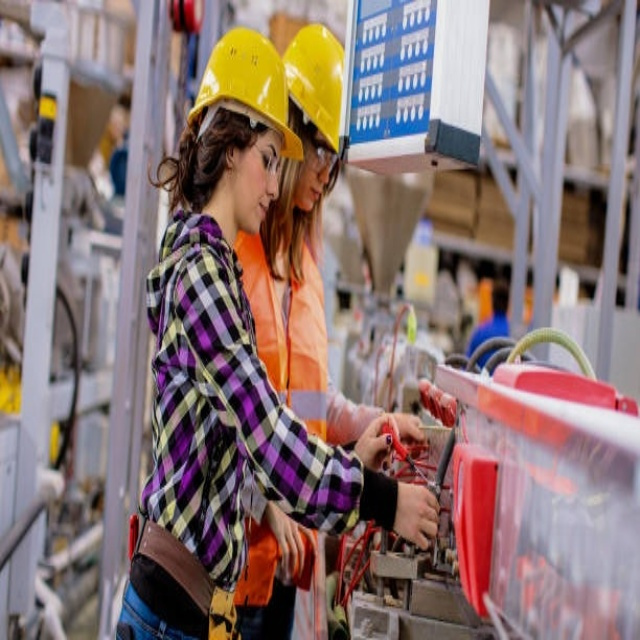Gafas: (249, 128, 281, 182), (303, 132, 342, 175)
Sin_guantes: (387, 475, 441, 551), (262, 502, 309, 580), (356, 407, 402, 465), (383, 410, 428, 452)
Sin_mascara: (238, 193, 274, 231), (300, 180, 327, 208)
